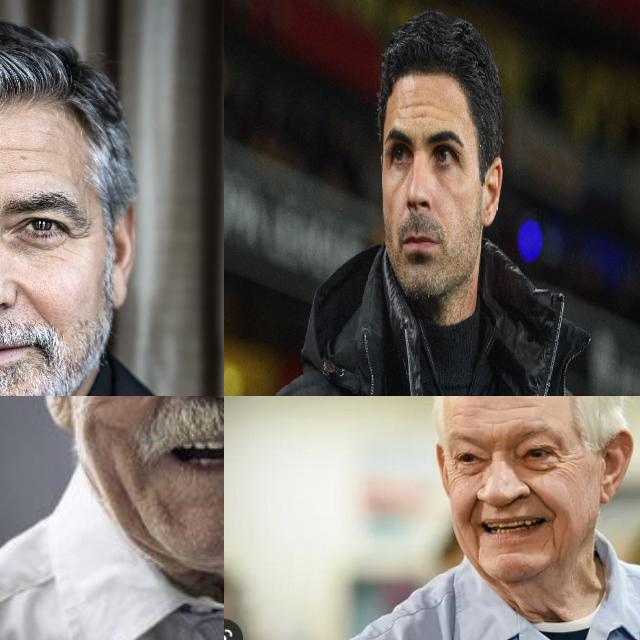crows_feet: (556, 448, 572, 480), (69, 228, 93, 246), (445, 457, 459, 481)
forehead: (0, 141, 76, 178), (399, 99, 444, 123), (480, 414, 514, 431), (504, 398, 538, 414), (463, 401, 492, 415)
frown_line: (0, 188, 3, 206)
gummy_smile: (9, 274, 45, 320), (525, 482, 551, 514), (460, 494, 480, 524)
masseter: (112, 462, 150, 540)
sad_smile: (544, 521, 560, 551), (469, 530, 485, 560)
